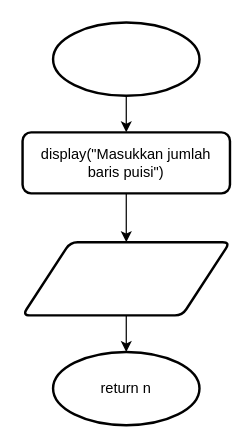
This 251x447 diagram has some shape labels left out. Here are the shapes that lost their labels. From the top down, the centre of each, then its label:
the point at 125,58: getBaris(int *n)
the point at 126,278: input jumlah baris
